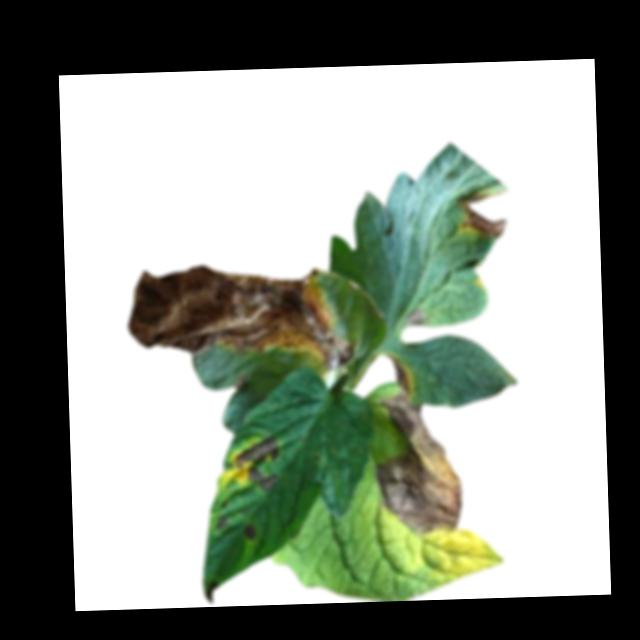Early_blight: (126, 259, 354, 377), (381, 391, 464, 536), (451, 187, 512, 237), (235, 433, 283, 492), (386, 352, 408, 392), (203, 576, 220, 605), (402, 307, 426, 327), (230, 376, 248, 396), (214, 513, 228, 534), (245, 522, 258, 543)
